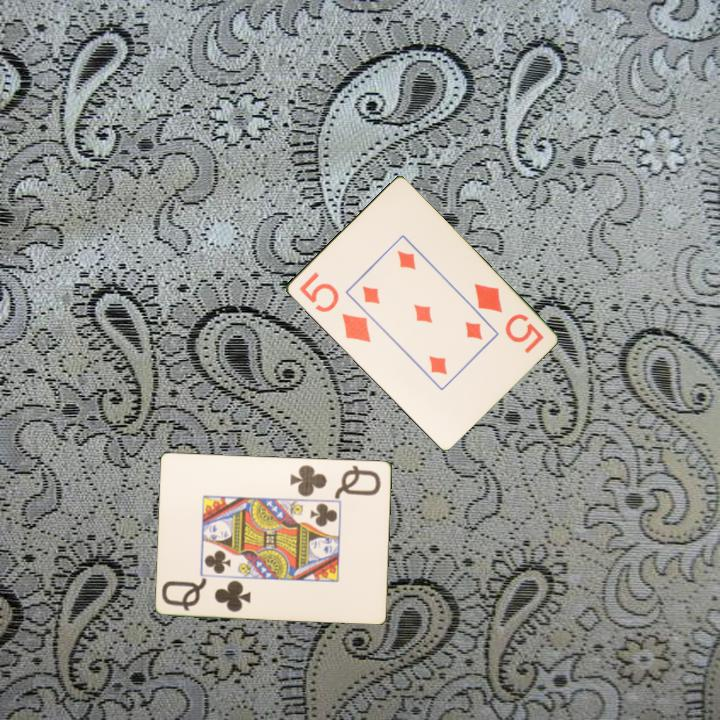5d: (295, 268, 374, 346), (470, 280, 546, 357)
Qc: (286, 461, 384, 500), (158, 575, 254, 614)
